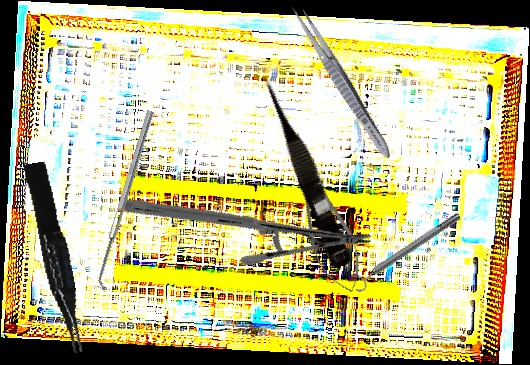Dressing Forceps: (286, 1, 397, 162)
Fixation Ring: (347, 208, 466, 294)
Micro Scissor: (256, 70, 357, 270), (271, 127, 373, 300)
Needle Holder: (120, 122, 374, 323)
Spatula Surgical: (93, 109, 161, 292)
Tissue Forceps: (23, 159, 87, 357)
